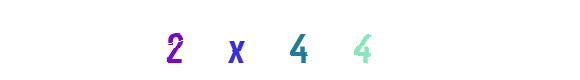2: (161, 0, 241, 80)
4: (259, 0, 339, 80), (295, 0, 375, 80)
X: (250, 0, 330, 80)
